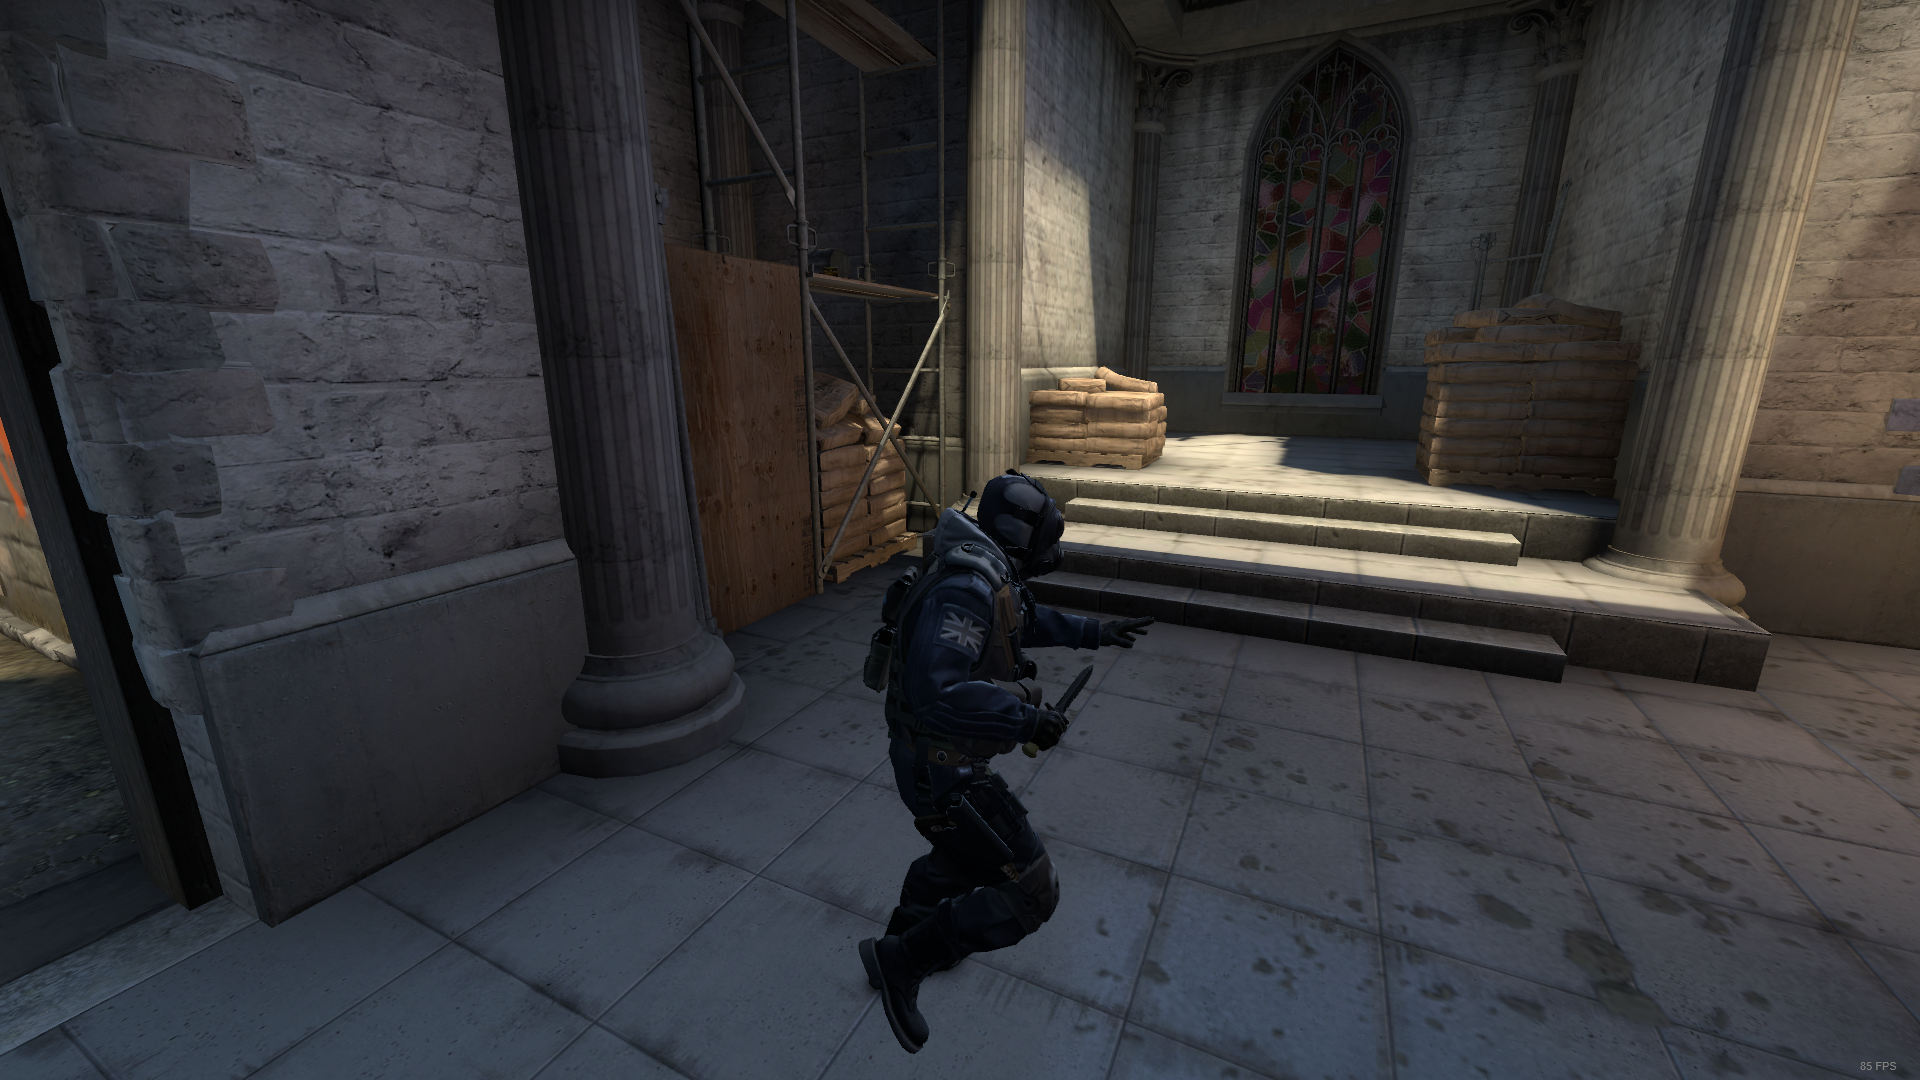ct: (833, 463, 1150, 1073)
